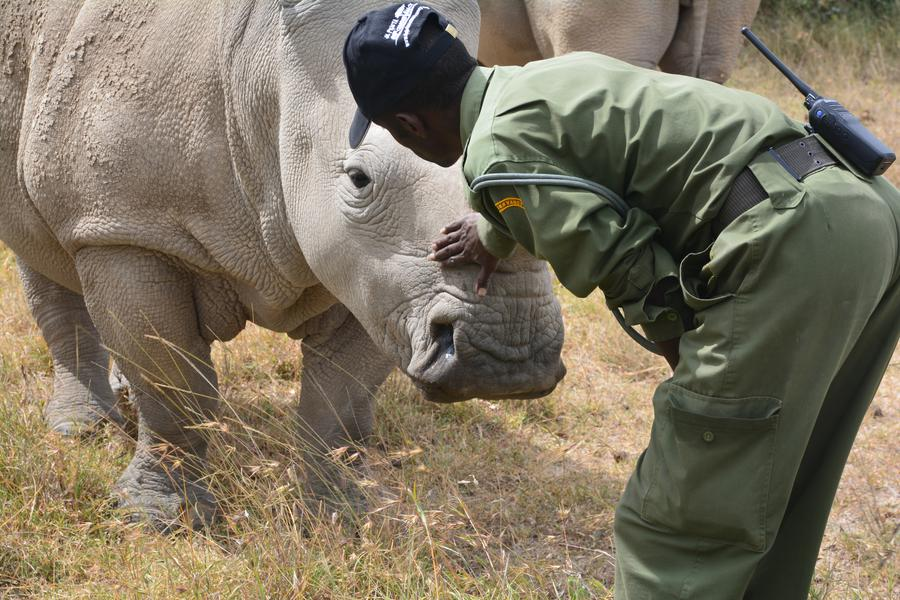rhino: (15, 18, 527, 520)
